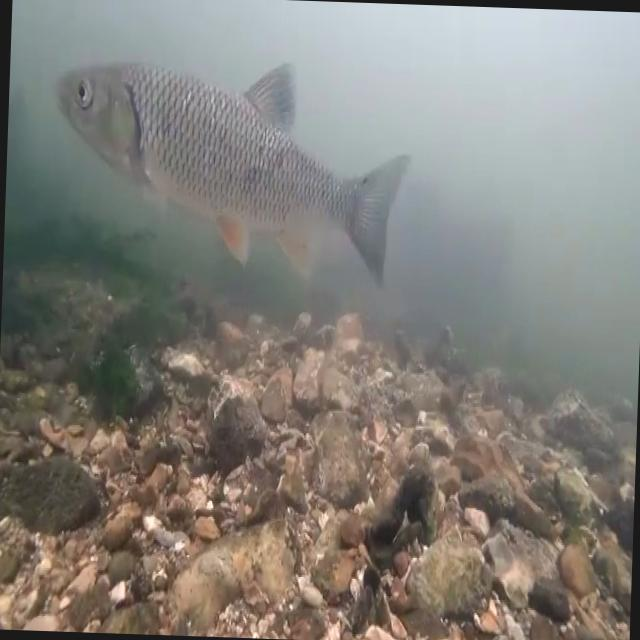Cakil Baligi: (47, 47, 415, 300)
